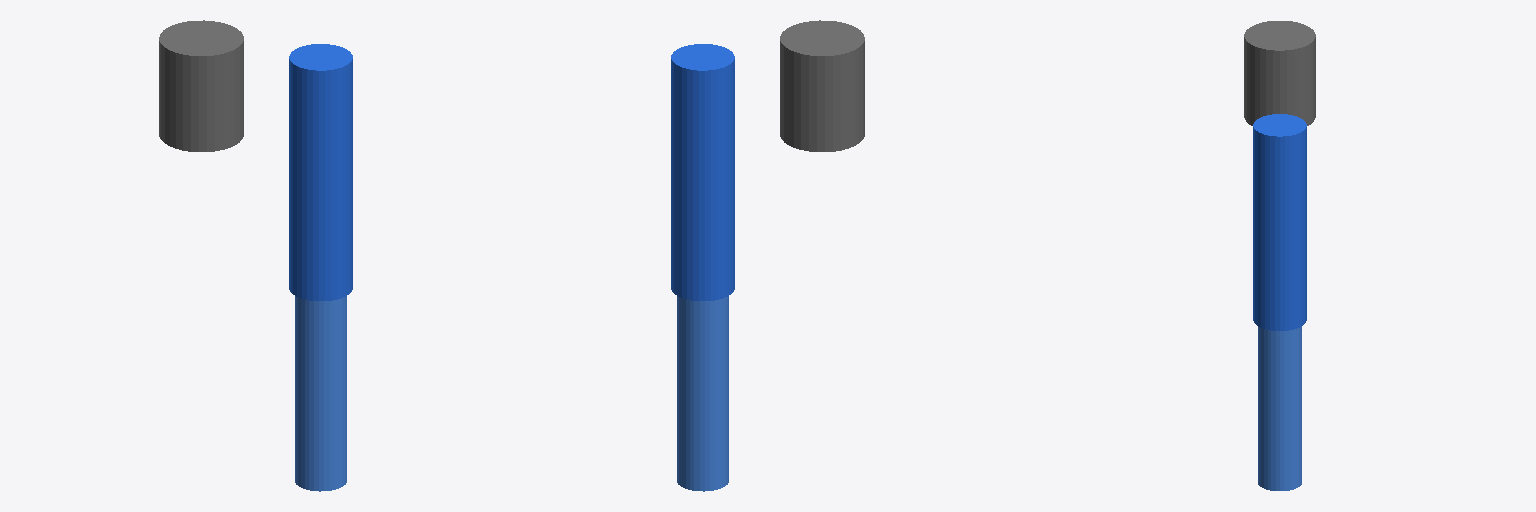
robot.urdf — marengo_arm_4dof_right:
<?xml version="1.0"?>
<!-- Right 4-DOF bench: shoulder pitch → roll → upper-arm yaw → elbow pitch.
     Matches config/bringup/arm_4dof_right/robot.yaml.
     PROVISIONAL: masses/COM/link lengths are ballpark until CAD export.
     Elbow software limits start conservative for discovery (widen from bench).
     Axes per hardware/docs/kinematics.md (right arm table). -->
<robot name="marengo_arm_4dof_right">
  <link name="base_link">
    <inertial>
      <mass value="0.001"/>
      <inertia ixx="1e-6" ixy="0" ixz="0" iyy="1e-6" iyz="0" izz="1e-6"/>
    </inertial>
    <visual>
      <origin xyz="0 0 0" rpy="0 0 0"/>
      <geometry>
        <cylinder radius="0.04" length="0.10"/>
      </geometry>
      <material name="mount_gray">
        <color rgba="0.5 0.5 0.5 1"/>
      </material>
    </visual>
  </link>
  <link name="right_shoulder_pitch_link">
    <inertial>
      <origin xyz="0 0 0" rpy="0 0 0"/>
      <mass value="0.3"/>
      <inertia ixx="0.002" ixy="0" ixz="0" iyy="0.002" iyz="0" izz="0.002"/>
    </inertial>
  </link>
  <link name="right_shoulder_roll_link">
    <inertial>
      <origin xyz="0.05 0 0" rpy="0 0 0"/>
      <mass value="0.3"/>
      <inertia ixx="0.002" ixy="0" ixz="0" iyy="0.002" iyz="0" izz="0.002"/>
    </inertial>
  </link>
  <link name="right_upper_arm_link">
    <inertial>
      <mass value="0.55"/>
      <origin xyz="0 0 -0.18" rpy="0 0 0"/>
      <inertia ixx="0.001" ixy="0" ixz="0" iyy="0.001" iyz="0" izz="0.0001"/>
    </inertial>
    <visual>
      <origin xyz="0 0 -0.12" rpy="0 0 0"/>
      <geometry>
        <cylinder radius="0.03" length="0.24"/>
      </geometry>
      <material name="arm_blue">
        <color rgba="0.23 0.51 0.96 1"/>
      </material>
    </visual>
  </link>
  <link name="right_forearm_link">
    <inertial>
      <!-- Bench weigh 2026-07-22: ~82 g distal stack, ~75 g attributed past elbow. -->
      <mass value="0.075"/>
      <origin xyz="0 0 -0.14" rpy="0 0 0"/>
      <inertia ixx="0.00011" ixy="0" ixz="0" iyy="0.00011" iyz="0" izz="0.00002"/>
    </inertial>
    <visual>
      <origin xyz="0 0 -0.1" rpy="0 0 0"/>
      <geometry>
        <cylinder radius="0.025" length="0.2"/>
      </geometry>
      <material name="forearm_blue">
        <color rgba="0.35 0.6 0.95 1"/>
      </material>
    </visual>
  </link>
  <joint name="right_shoulder_pitch" type="revolute">
    <parent link="base_link"/>
    <child link="right_shoulder_pitch_link"/>
    <origin xyz="0 0 0" rpy="0 0 0"/>
    <axis xyz="0 1 0"/>
    <limit lower="-0.9" upper="3.25" effort="60" velocity="2.0"/>
    <safety_controller soft_lower_limit="-0.872665" soft_upper_limit="3.20" k_position="10" k_velocity="1"/>
  </joint>
  <joint name="right_shoulder_roll" type="revolute">
    <parent link="right_shoulder_pitch_link"/>
    <child link="right_shoulder_roll_link"/>
    <origin xyz="0.05 0 0" rpy="0 0 0"/>
    <axis xyz="1 0 0"/>
    <limit lower="-0.05" upper="3.14159" effort="60" velocity="2.0"/>
    <safety_controller soft_lower_limit="-0.05" soft_upper_limit="3.14159" k_position="10" k_velocity="1"/>
  </joint>
  <joint name="right_upper_arm_yaw" type="revolute">
    <parent link="right_shoulder_roll_link"/>
    <child link="right_upper_arm_link"/>
    <origin xyz="0.08 0 0" rpy="0 0 0"/>
    <axis xyz="0 0 1"/>
    <limit lower="-1.57" upper="1.57" effort="17" velocity="2.0"/>
    <safety_controller soft_lower_limit="-1.57" soft_upper_limit="1.57" k_position="10" k_velocity="1"/>
  </joint>
  <!-- Bench-measured envelope (Set Limits 2026-07-22); Davout hard = URDF ∩ motors.yaml. -->
  <joint name="right_elbow_pitch" type="revolute">
    <parent link="right_upper_arm_link"/>
    <child link="right_forearm_link"/>
    <origin xyz="0 0 -0.24" rpy="0 0 0"/>
    <axis xyz="0 1 0"/>
    <limit lower="-0.50" upper="1.2" effort="17" velocity="2.0"/>
    <safety_controller soft_lower_limit="-0.50" soft_upper_limit="1.15" k_position="10" k_velocity="1"/>
  </joint>
</robot>

--- Render facts (derived) ---
Views: 3 orthographic renders of the robot side by side, from view 1: azimuth 30°, elevation 25°; view 2: azimuth 150°, elevation 25°; view 3: azimuth 270°, elevation 25°.
Robot: marengo_arm_4dof_right — 5 links, 4 joints (4 revolute); root link base_link; default pose: every joint at zero.
Visible links, largest first — view 1: right_upper_arm_link, base_link, right_forearm_link; view 2: right_upper_arm_link, base_link, right_forearm_link; view 3: right_upper_arm_link, right_forearm_link, base_link.
Boxes of the visible links, bbox=[...] form: right_upper_arm_link: bbox=[289, 44, 352, 300]; base_link: bbox=[159, 20, 243, 151]; right_forearm_link: bbox=[295, 296, 346, 491]; right_upper_arm_link: bbox=[671, 44, 734, 300]; base_link: bbox=[780, 20, 864, 151]; right_forearm_link: bbox=[677, 296, 728, 491]; right_upper_arm_link: bbox=[1253, 114, 1306, 330]; right_forearm_link: bbox=[1258, 327, 1301, 490]; base_link: bbox=[1244, 21, 1315, 125].
Bounding box of the posed robot: 0.2 × 0.08 × 0.49 m (x, y, z).
Geometry: primitives only (box / cylinder / sphere), no mesh files.
